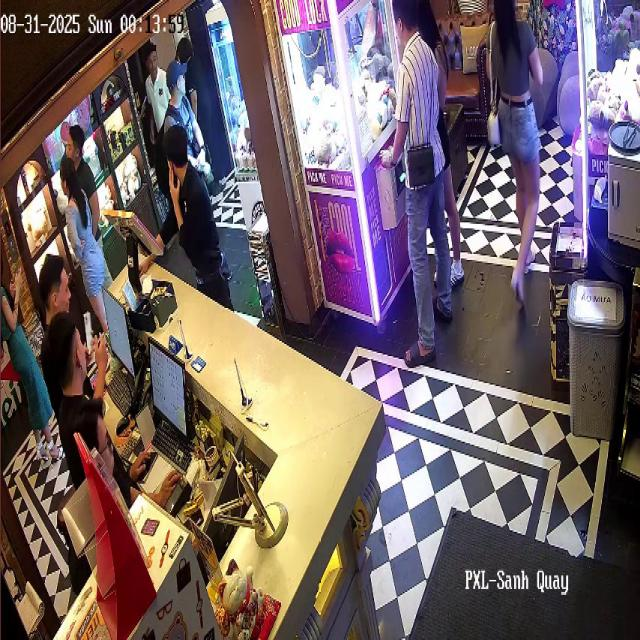khach: (384, 3, 454, 369), (485, 0, 545, 316), (160, 122, 232, 311), (426, 6, 465, 285), (0, 249, 45, 465), (61, 157, 105, 321), (66, 118, 97, 220), (145, 46, 174, 154), (165, 60, 192, 141)
nhan vien: (75, 396, 124, 523), (37, 317, 92, 425), (40, 246, 73, 327), (177, 25, 203, 110)
